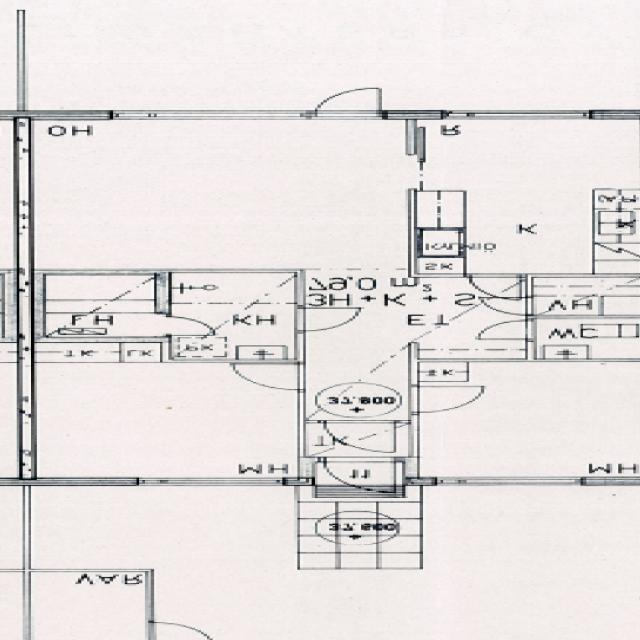door: (324, 458, 395, 492), (316, 84, 382, 120), (325, 421, 395, 452), (408, 387, 484, 414), (234, 364, 308, 390), (298, 309, 361, 330), (156, 316, 218, 335), (472, 274, 521, 298), (146, 623, 210, 640), (482, 321, 536, 340), (484, 298, 536, 316)
